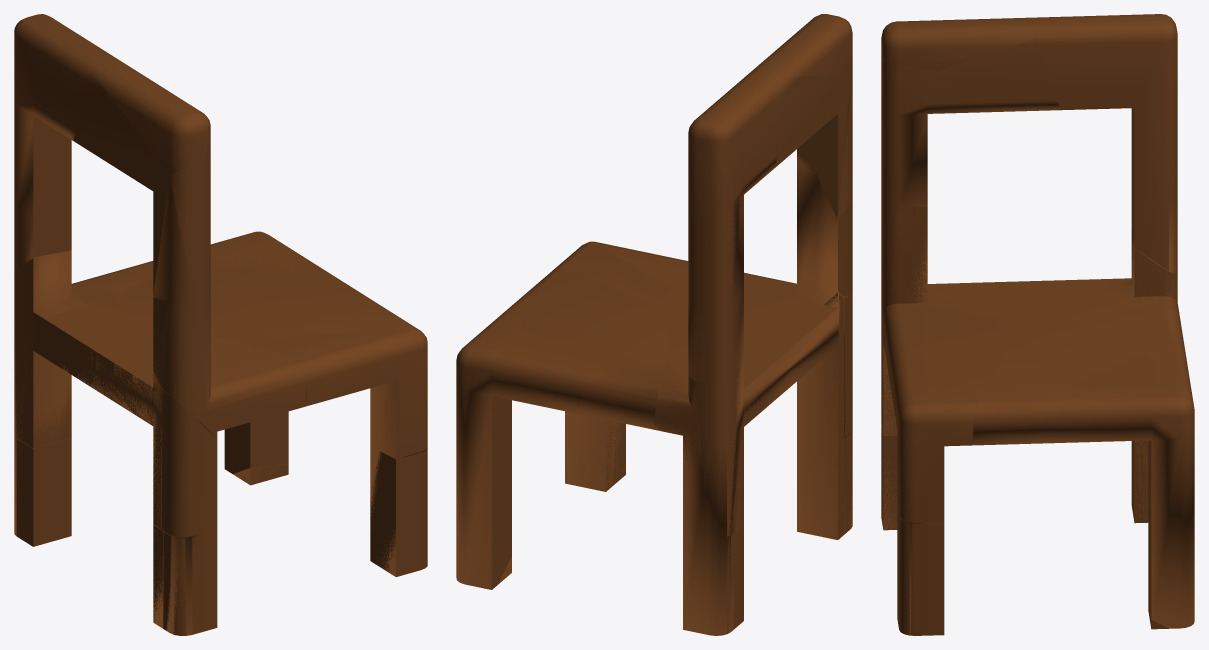
The model's file is Chair02.fbx.
3 views of the same model, side by side, from view 1: azimuth 30°, elevation 25°; view 2: azimuth 150°, elevation 25°; view 3: azimuth 270°, elevation 25° (orthographic). The views are drawn at different scales.
Parts seen in each view (by area): view 1: Chair 02, Chair 02_cell.011, Chair 02_cell.002, Chair 02_cell.005, Chair 02_cell.007, Chair 02_cell.003, Chair 02_cell.004, Chair 02_cell.008, Chair 02_cell.014, Chair 02_cell.010, Chair 02_cell, Chair 02_cell.006 (+3 smaller); view 2: Chair 02, Chair 02_cell.005, Chair 02_cell.011, Chair 02_cell.003, Chair 02_cell.008, Chair 02_cell.002, Chair 02_cell.007, Chair 02_cell.001, Chair 02_cell.010, Chair 02_cell.004, Chair 02_cell.009, Chair 02_cell.014 (+2 smaller); view 3: Chair 02, Chair 02_cell.008, Chair 02_cell.005, Chair 02_cell.007, Chair 02_cell.002, Chair 02_cell.011, Chair 02_cell.014, Chair 02_cell.001, Chair 02_cell.006, Chair 02_cell, Chair 02_cell.010, Chair 02_cell.004.
Boxes of the visible parts, x1,y1,x2,y2 form: Chair 02: (14,14,427,635); Chair 02_cell.011: (15,258,161,528); Chair 02_cell.002: (153,290,306,436); Chair 02_cell.005: (122,246,383,473); Chair 02_cell.007: (237,306,427,458); Chair 02_cell.003: (73,69,196,303); Chair 02_cell.004: (161,389,217,537); Chair 02_cell.008: (29,15,121,257); Chair 02_cell.014: (370,449,427,576); Chair 02_cell.010: (16,438,71,546); Chair 02_cell: (163,529,217,635); Chair 02_cell.006: (170,146,210,295); Chair 02: (456,19,852,635); Chair 02_cell.005: (492,267,672,589); Chair 02_cell.011: (654,292,844,536); Chair 02_cell.003: (775,74,852,217); Chair 02_cell.008: (688,69,781,365); Chair 02_cell.002: (671,199,852,333); Chair 02_cell.007: (556,241,688,308); Chair 02_cell.001: (754,14,849,73); Chair 02_cell.010: (727,524,743,633); Chair 02_cell.004: (844,294,852,436); Chair 02_cell.009: (802,25,852,75); Chair 02_cell.014: (606,420,625,490); Chair 02: (881,14,1194,635); Chair 02_cell.008: (1037,15,1177,270); Chair 02_cell.005: (976,310,1168,617); Chair 02_cell.007: (890,343,1009,523); Chair 02_cell.002: (881,202,1055,383); Chair 02_cell.011: (927,249,1179,329); Chair 02_cell.014: (897,506,944,635); Chair 02_cell.001: (884,18,1037,65); Chair 02_cell.006: (881,63,935,203); Chair 02_cell: (881,426,897,530); Chair 02_cell.010: (1131,440,1148,523); Chair 02_cell.004: (881,309,897,434).
Size of the model in its own units: 101 by 177 by 101.
